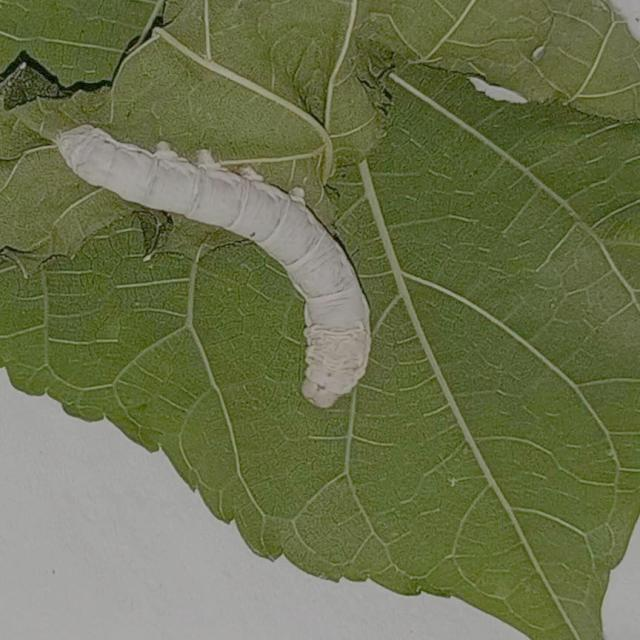Healthy: (39, 98, 400, 443)
